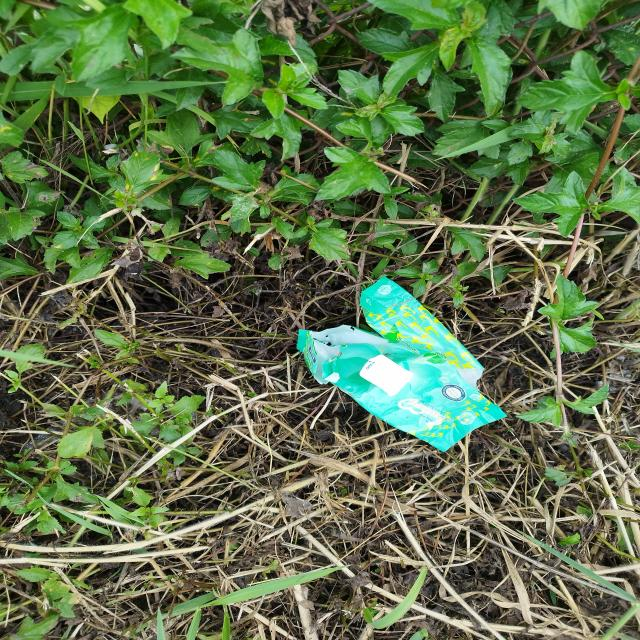packet: (296, 278, 504, 450)
